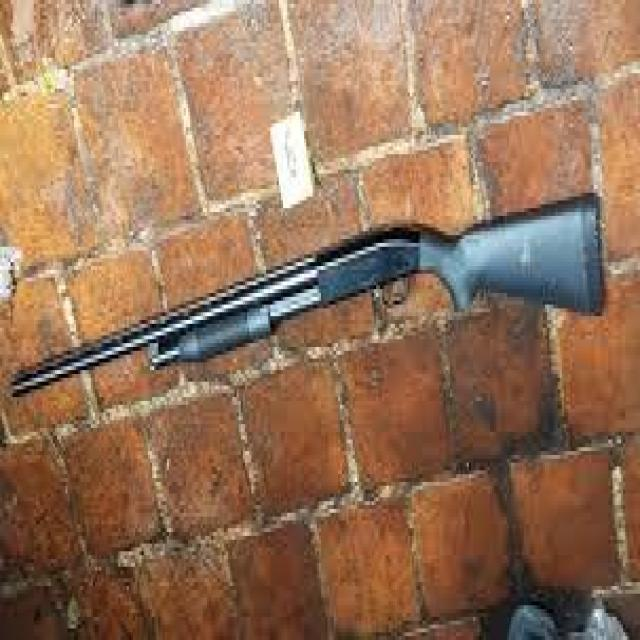weapon: (8, 189, 608, 405)
